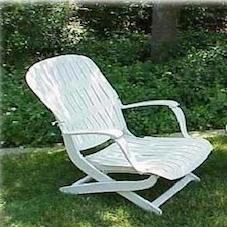chair: (18, 40, 213, 216)
